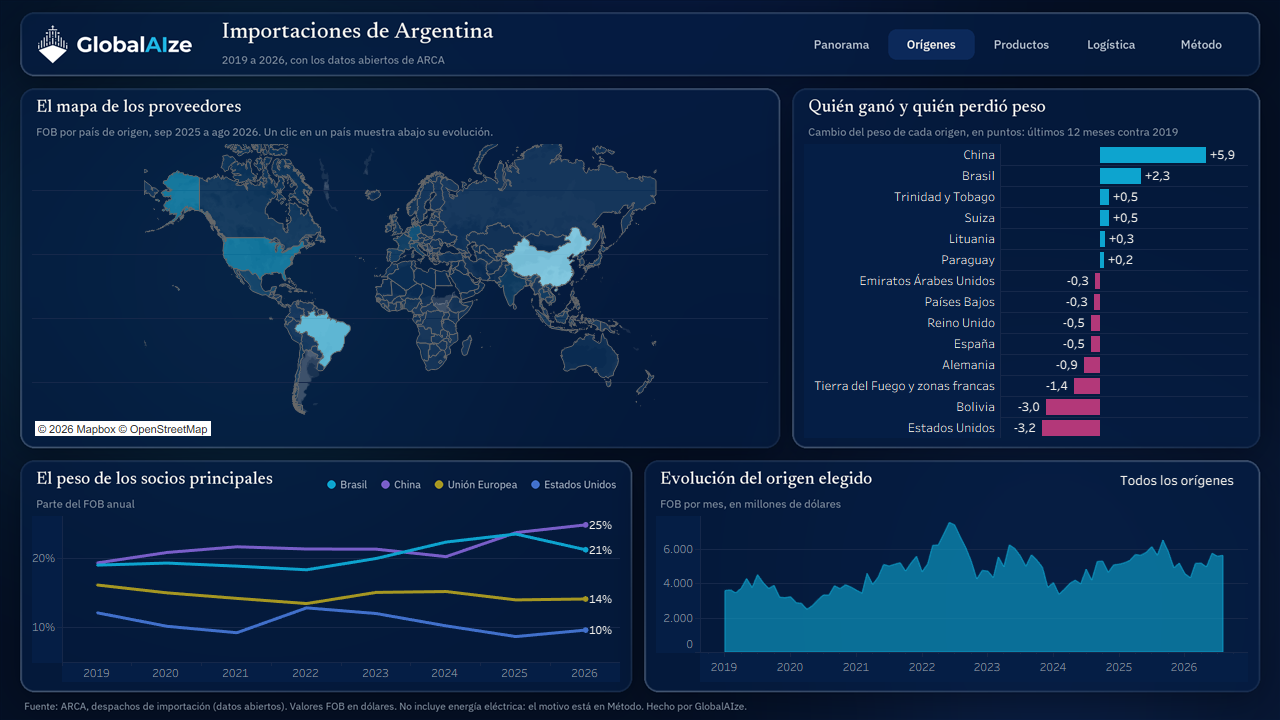

This screenshot's page, from the dashboard's own definition file:
{"tool":"tableau","page":{"name":"Orígenes","canvas":[1280,720],"ordinal":1},"visuals":[{"type":"image","param":"fondos/origenes.png","box":[0,0,1280,720]},{"type":"dashboard-object","box":[798,29,86,30]},{"type":"dashboard-object","box":[978,29,86,30]},{"type":"dashboard-object","box":[1068,29,86,30]},{"type":"dashboard-object","box":[1158,29,86,30]},{"type":"worksheet","title":"Mapa de orígenes","mark":"Multipolygon","box":[32,144,736,294]},{"type":"worksheet","title":"Ganadores y perdedores","mark":"Bar","rows":["País de origen"],"cols":["c_cambio"],"box":[804,144,444,294]},{"type":"worksheet","title":"Origen elegido","mark":"Text","box":[1024,469,220,26]},{"type":"worksheet","title":"Peso de los grupos","mark":"Line","rows":["c_peso_anio"],"cols":["Fecha"],"box":[32,516,588,166]},{"type":"worksheet","title":"Evolución del origen","mark":"Area","rows":["c_fob_m"],"cols":["Fecha"],"box":[656,516,592,166]}]}

Visuals, with their boxes in screenshot pixels (x1, y1, x2, y2), scaled from the page's 1280x720 canvas onto the 1280x720 screenshot:
image: [x1=0, y1=0, x2=1279, y2=719]
dashboard-object: [x1=798, y1=29, x2=884, y2=59]
dashboard-object: [x1=978, y1=29, x2=1064, y2=59]
dashboard-object: [x1=1068, y1=29, x2=1154, y2=59]
dashboard-object: [x1=1158, y1=29, x2=1244, y2=59]
"Mapa de orígenes" worksheet (Multipolygon marks): [x1=32, y1=144, x2=768, y2=438]
"Ganadores y perdedores" worksheet (Bar marks): [x1=804, y1=144, x2=1248, y2=438]
"Origen elegido" worksheet (Text marks): [x1=1024, y1=469, x2=1244, y2=495]
"Peso de los grupos" worksheet (Line marks): [x1=32, y1=516, x2=620, y2=682]
"Evolución del origen" worksheet (Area marks): [x1=656, y1=516, x2=1248, y2=682]
